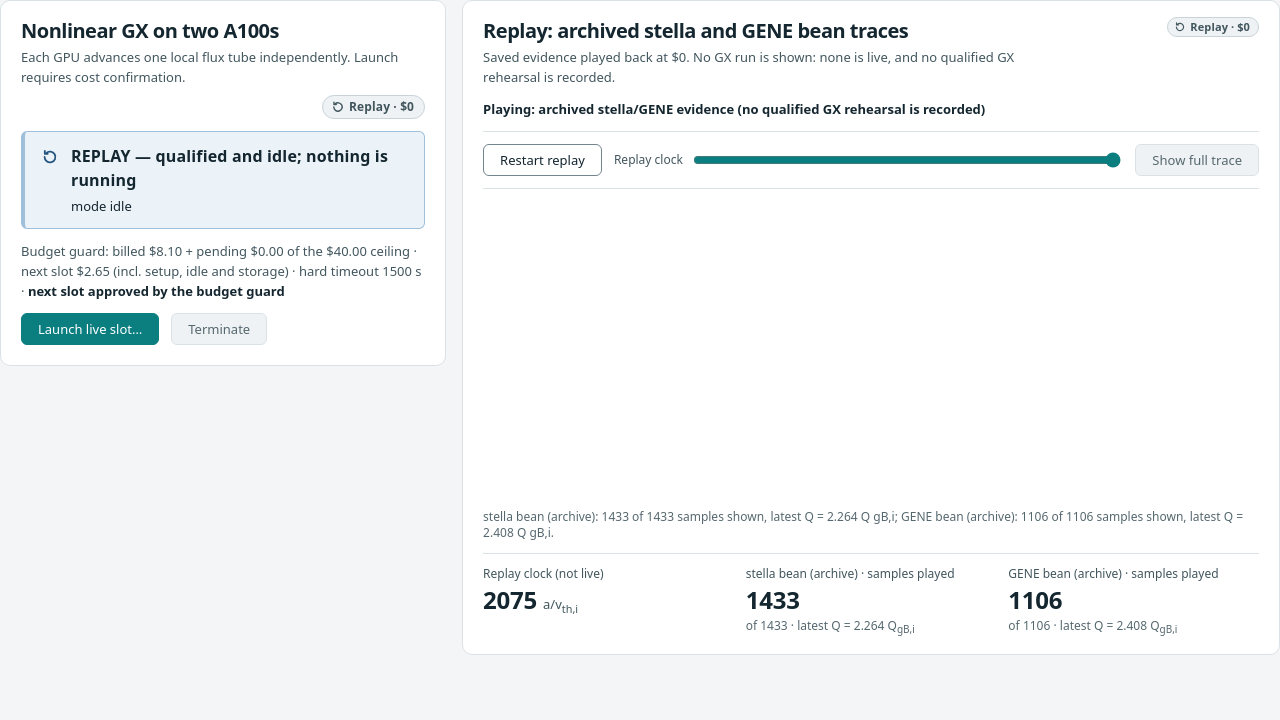
Test: L10 FA-4 a launch request with no answer is unknown: alert and disabled until a fresh snapshot shows the mode
Later steps or results of the test are not shown.
Click the button "Launch live slot…": (90, 329) [21, 313, 159, 345]
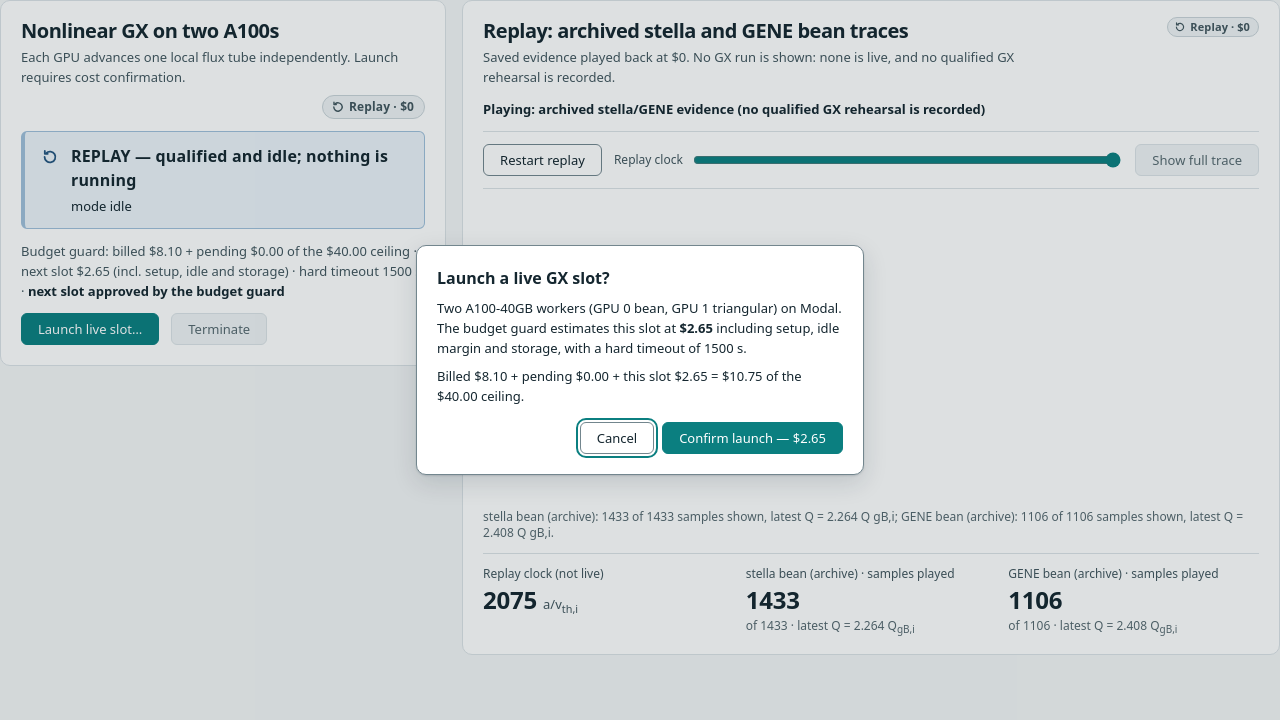
Click the button "Confirm launch — $2.65": (753, 438) [662, 422, 843, 454]
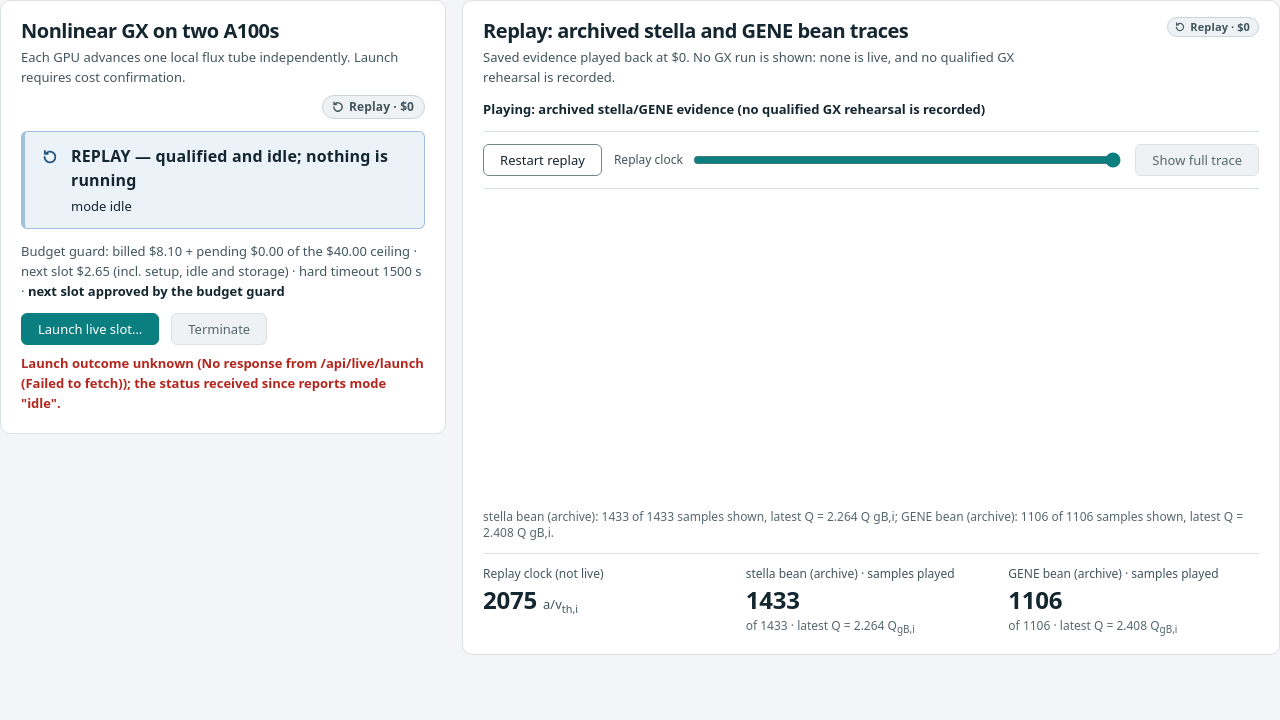
Expected: the button "Launch live slot…" is enabled, [21, 313, 159, 345]
Expected: the text "Launch outcome unknown" shows "Launch outcome unknown (No response from /api/live/launch (Failed to fetch)); the status received since reports mode \"idle\".", [21, 353, 425, 413]
